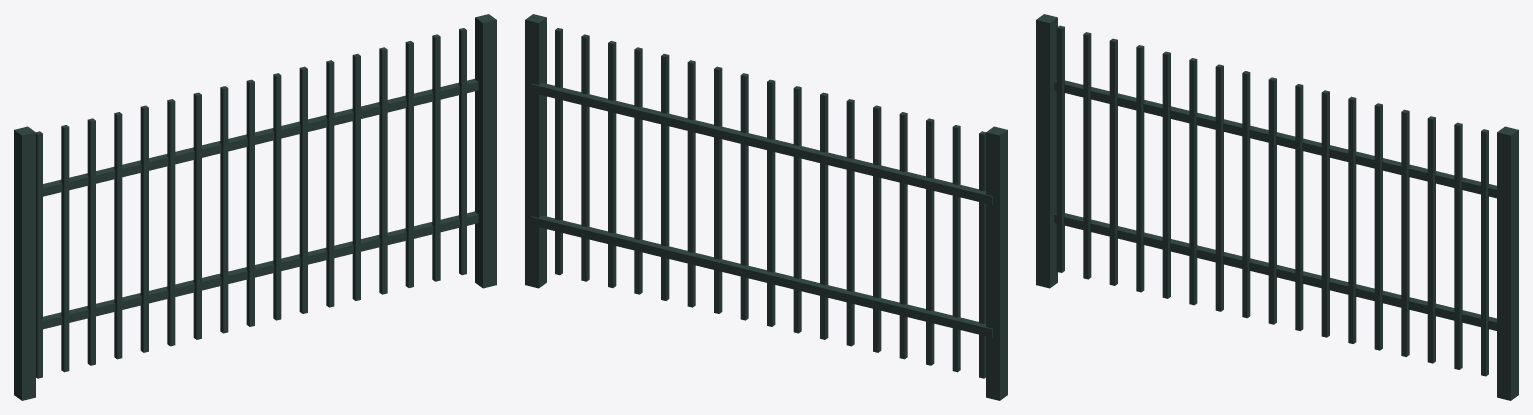
The model's file is IndustrialFence.obj.
3 views of the same model, side by side, from view 1: azimuth 30°, elevation 25°; view 2: azimuth 150°, elevation 25°; view 3: azimuth 330°, elevation 25° (orthographic).
Visible parts, largest first — view 1: IndustrialFence; view 2: IndustrialFence; view 3: IndustrialFence.
Part boxes in pixels (x1,y1,x2,y2): IndustrialFence: (14,14,496,400); IndustrialFence: (525,14,1007,400); IndustrialFence: (1036,14,1518,400).
Bounding box in the file's own units: 4.12 × 2.2 × 0.1325.
